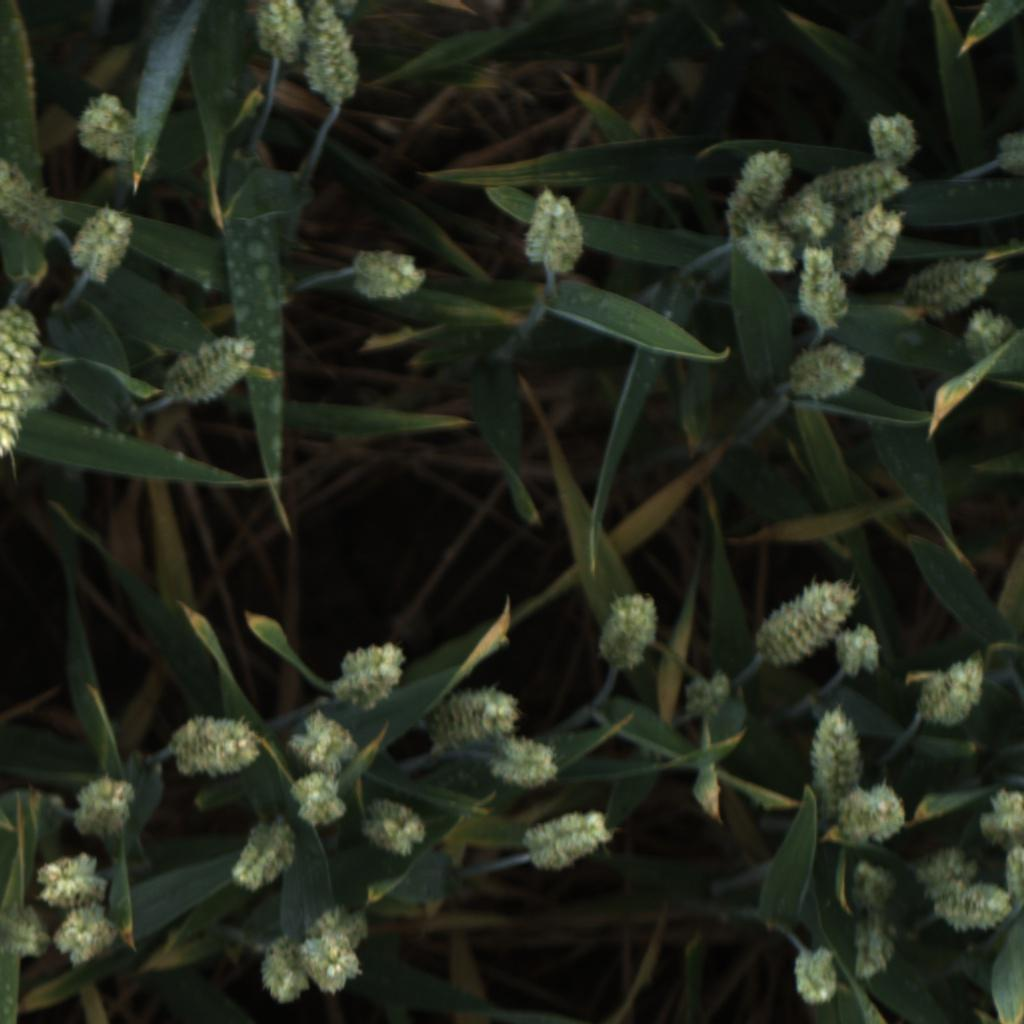0-0: (748, 568, 856, 659), (0, 308, 47, 467), (519, 803, 615, 876), (161, 336, 257, 409), (170, 713, 273, 778), (426, 683, 527, 748), (305, 905, 375, 998), (522, 182, 587, 280), (306, 3, 363, 113), (900, 252, 1006, 311), (781, 341, 876, 406), (328, 638, 411, 711), (592, 590, 663, 675), (63, 206, 134, 286), (69, 767, 142, 843), (721, 204, 793, 280), (32, 844, 116, 907), (228, 821, 299, 895), (915, 658, 987, 727), (349, 242, 428, 304), (53, 899, 124, 967), (813, 159, 909, 209), (793, 244, 846, 334), (72, 92, 139, 163), (835, 780, 908, 845), (841, 208, 907, 279), (484, 737, 566, 793), (0, 156, 57, 236), (810, 709, 864, 791), (289, 714, 361, 775), (939, 881, 1016, 938), (363, 797, 430, 861), (730, 141, 794, 206), (789, 937, 844, 1011), (4, 358, 64, 425), (285, 775, 354, 831), (865, 107, 924, 167), (849, 917, 901, 985), (979, 846, 1023, 926), (257, 1, 306, 72), (910, 848, 977, 898), (257, 944, 309, 1008), (0, 902, 54, 963), (831, 623, 885, 684), (681, 666, 733, 728), (957, 302, 1015, 354), (844, 858, 898, 913), (974, 786, 1024, 845), (786, 188, 833, 240), (991, 129, 1024, 172)
